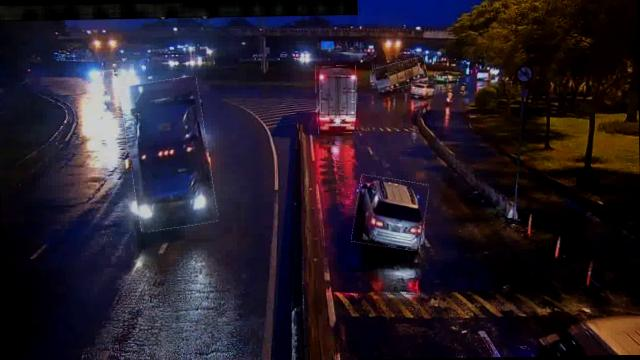Car: (353, 176, 428, 250), (412, 80, 436, 96)
Truck: (124, 76, 215, 230), (316, 66, 358, 134), (374, 59, 428, 90)
